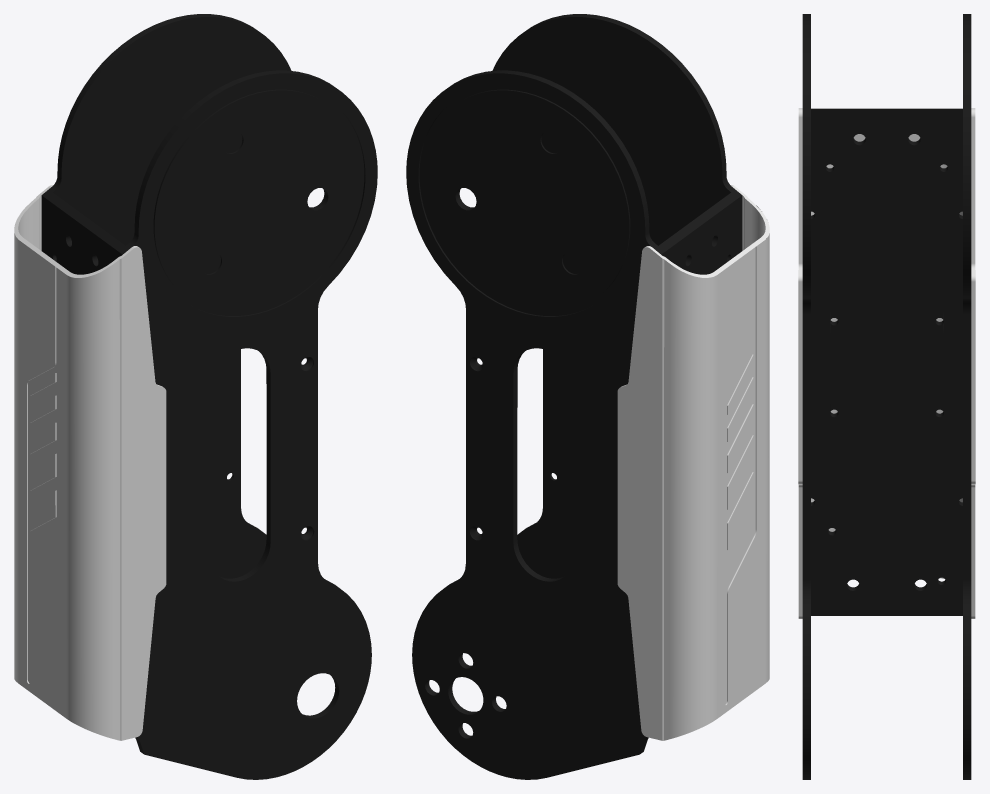
Rendered from shoulder.dae.
3 renders of one model, left to right at view 1: azimuth 30°, elevation 25°; view 2: azimuth 150°, elevation 25°; view 3: azimuth 270°, elevation 25°, orthographic. The views are drawn at different scales.
Parts seen in each view (by area): view 1: object_1_000; view 2: object_1_000; view 3: object_1_000.
Part boxes in pixels (left/top/right/bottom): object_1_000: left=14, top=14, right=377, bottom=779; object_1_000: left=406, top=14, right=769, bottom=779; object_1_000: left=798, top=14, right=975, bottom=779.
Bounding box in the file's own units: 0.0846 × 0.0424 × 0.1936.
Materials: 1 (1 with a texture image).
